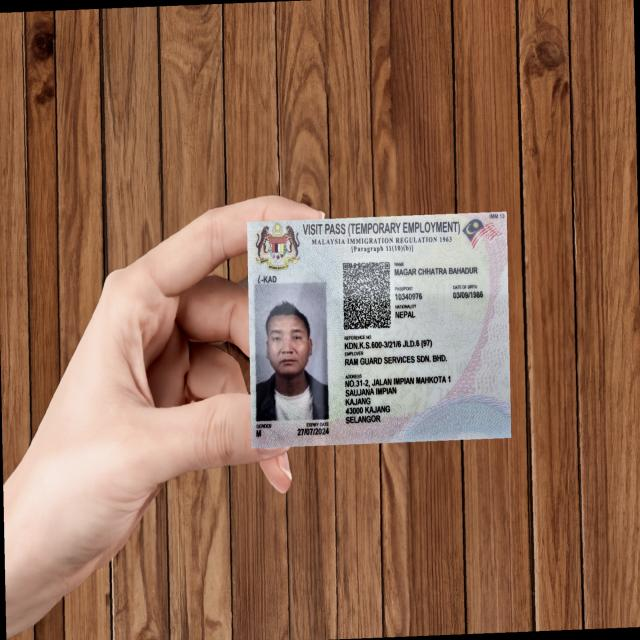ikad-temp: (246, 211, 511, 448)
